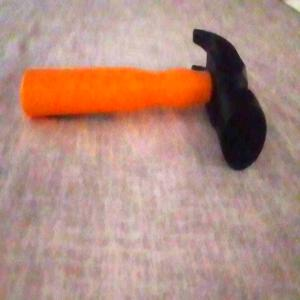martelo: (18, 27, 269, 173)
